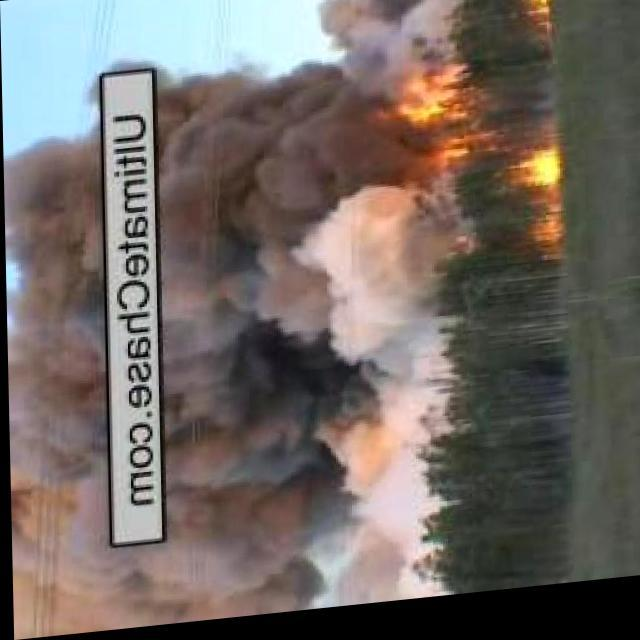fire: (364, 78, 456, 138), (498, 150, 556, 206), (534, 224, 562, 260), (527, 0, 544, 24)
